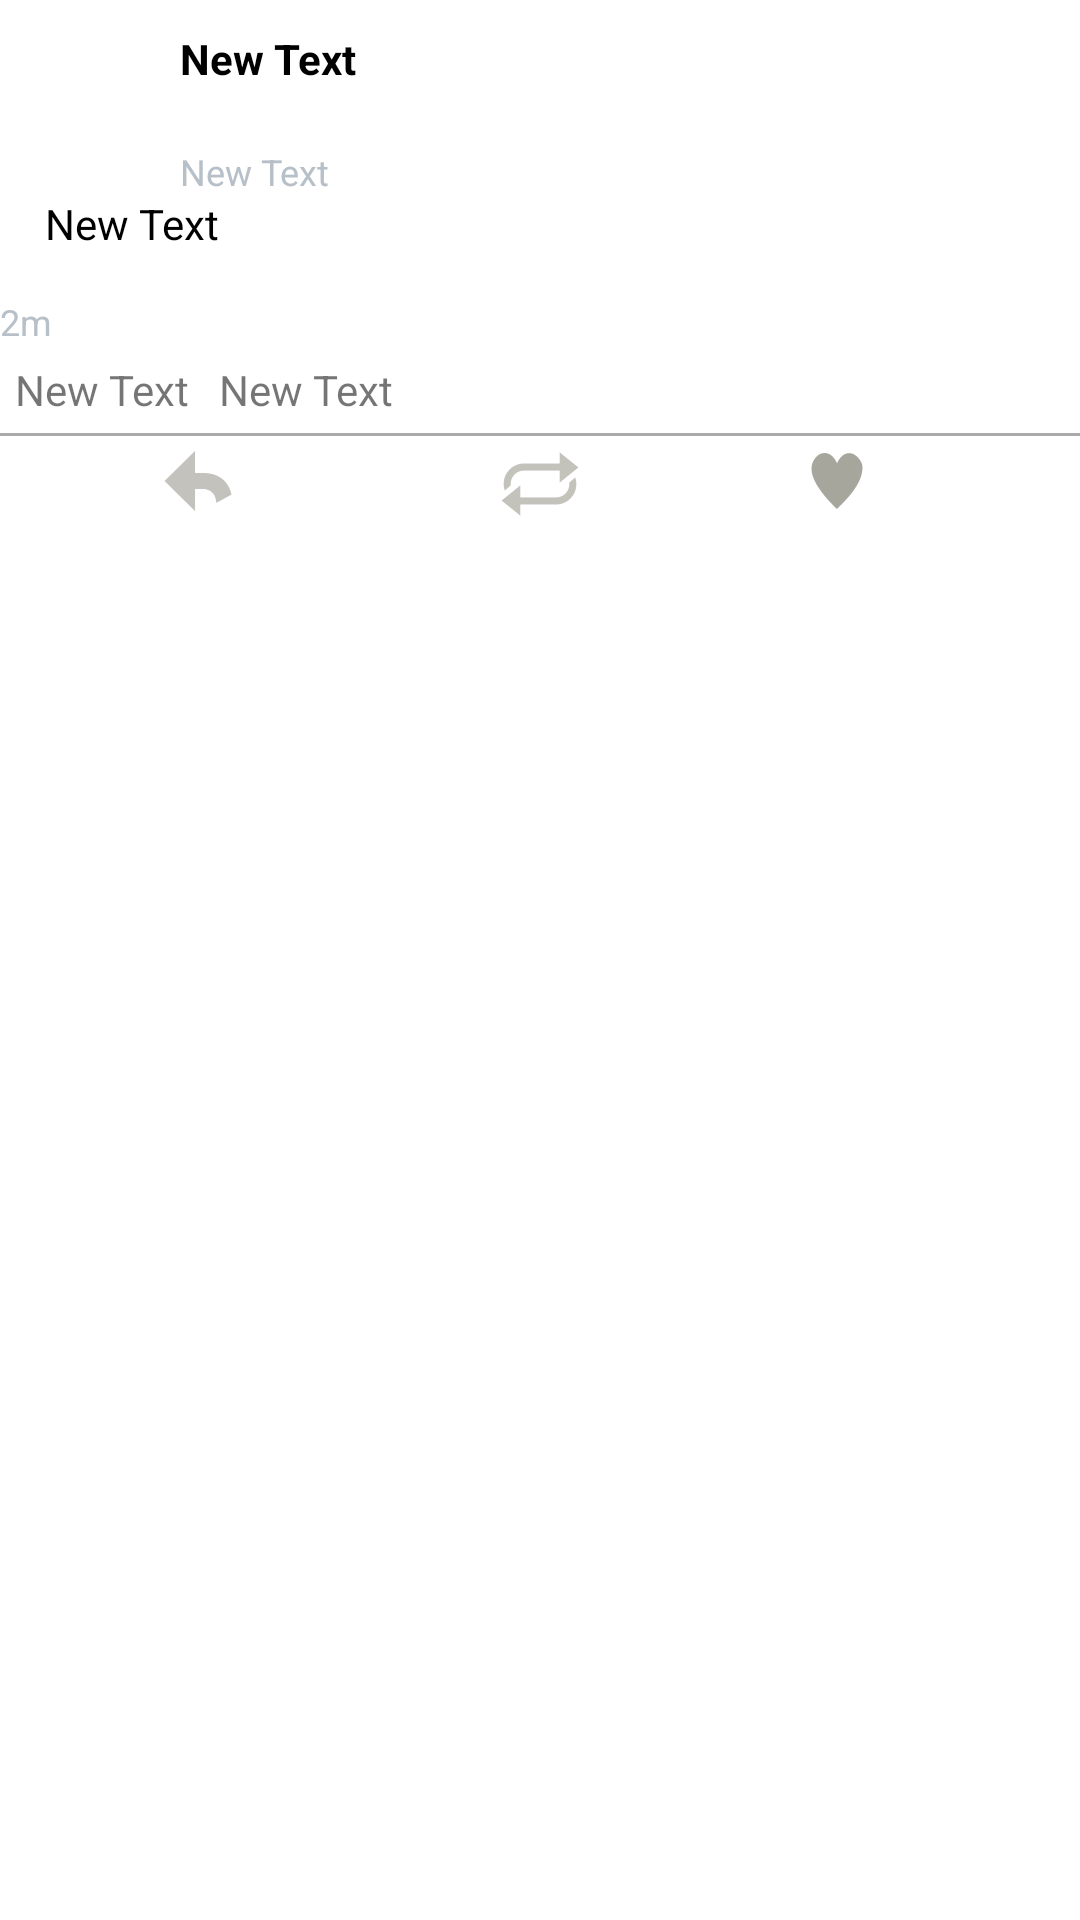

Named icons in this screenshot (1080 × 1920) and their centers, [x,y]:
fav: [837,481]
reply: [198,481]
retweet: [540,484]
